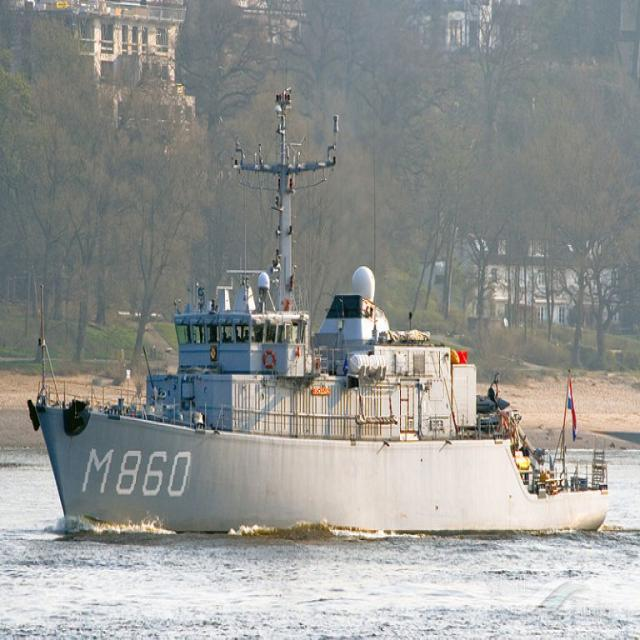OCR: (80, 436, 196, 510)
